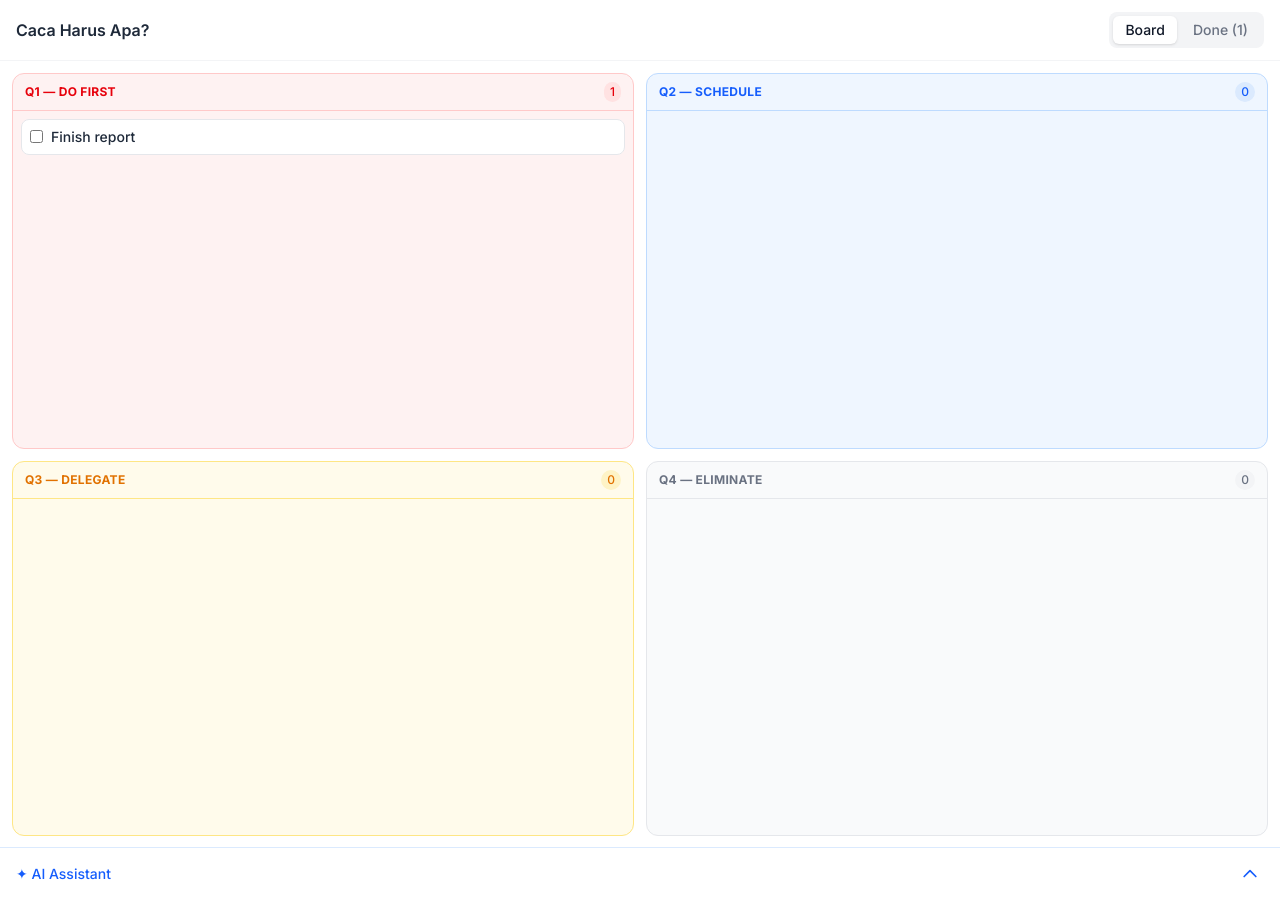
Test case: Board › switching to Done tab shows completed tasks
The width and height of the screenshot is (1280, 900).
Click the tab "Done (1)". click: (1220, 30)
box: [1181,16,1260,44]
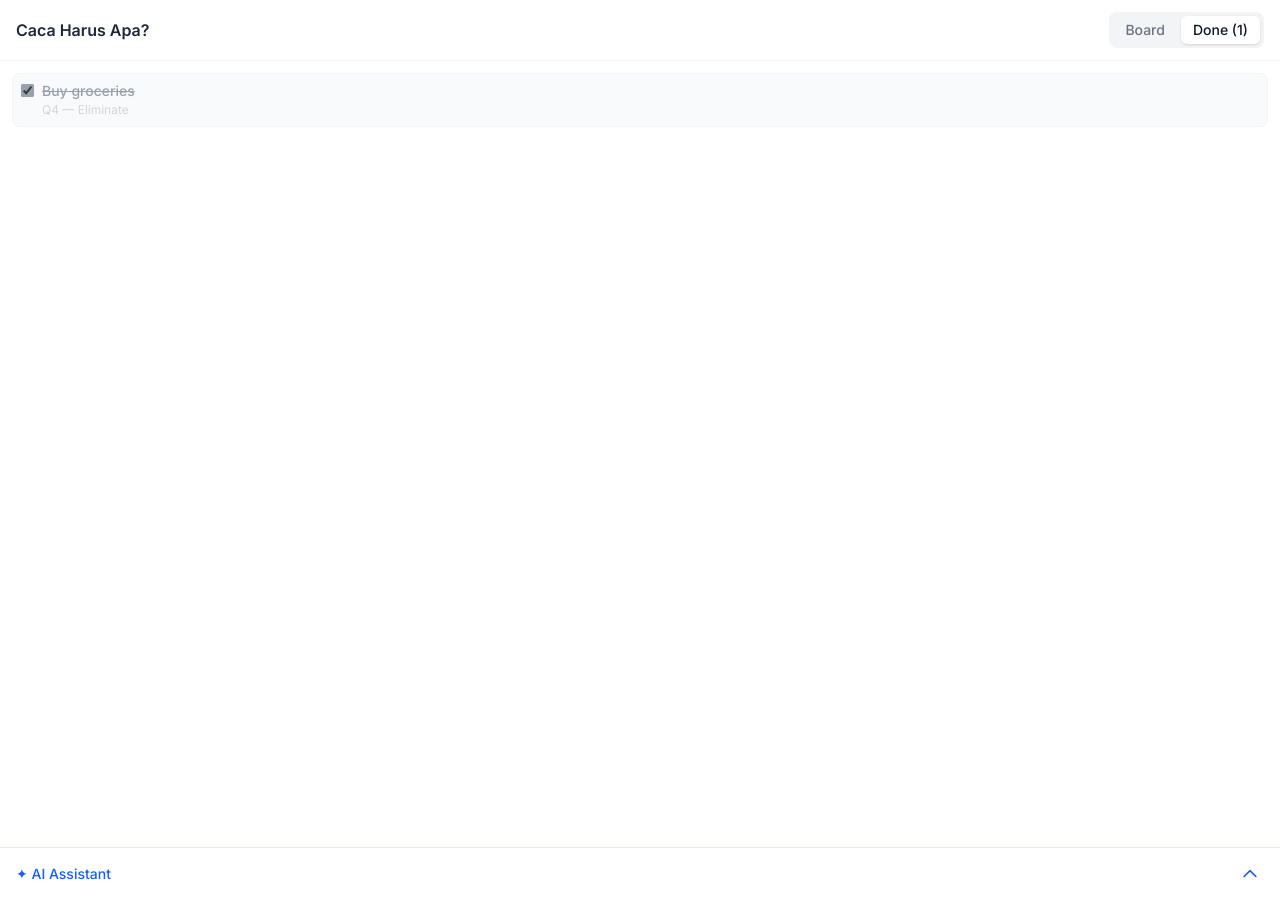
Now the text "Buy groceries" is shown, box [42,82,135,99]
